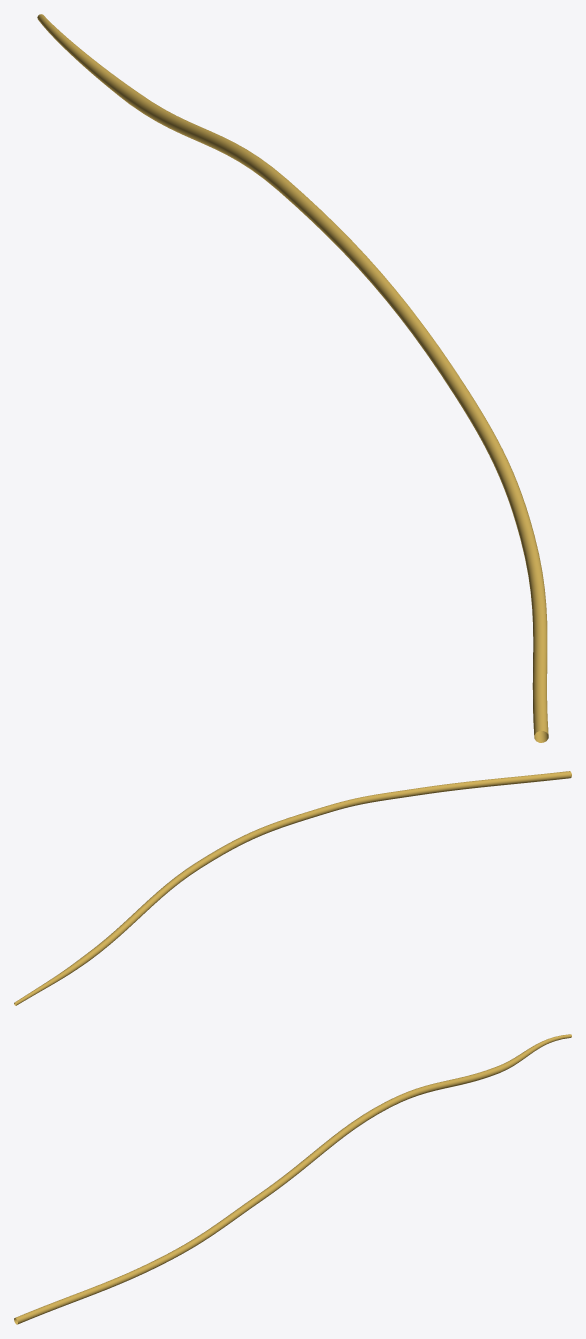
The picture shows the model from 3 angles, top to bottom: view 1: azimuth 30°, elevation 25°; view 2: azimuth 150°, elevation 25°; view 3: azimuth 330°, elevation 25°; orthographic projection. The views are drawn at different scales.
Visible parts, largest first — view 1: 左侧肌皮神经; view 2: 左侧肌皮神经; view 3: 左侧肌皮神经.
Boxes of the visible parts, x1,y1,x2,y2 form: 左侧肌皮神经: (37,14,548,742); 左侧肌皮神经: (14,771,571,1005); 左侧肌皮神经: (14,1034,571,1324).
Bounding box in the file's own units: 0.0723 × 0.0308 × 0.3231.
